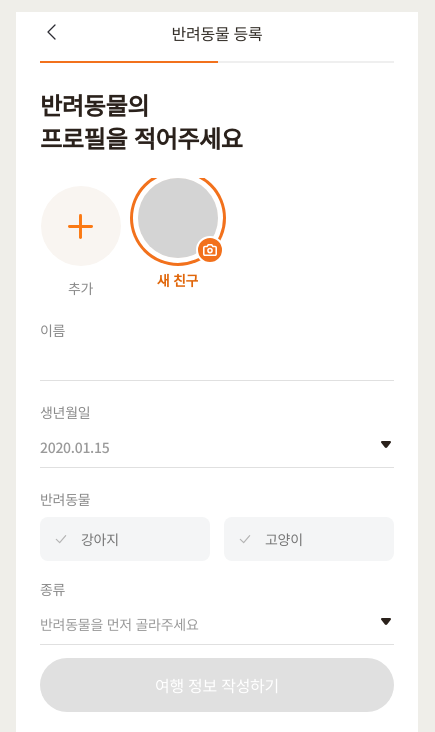
Test case: M02 반려동물 등록 › 없는 날짜는 생년월일로 받지 않는다
Type "20230230" into the field labelled "생년월일" at (202, 445), box [40,425,364,465]
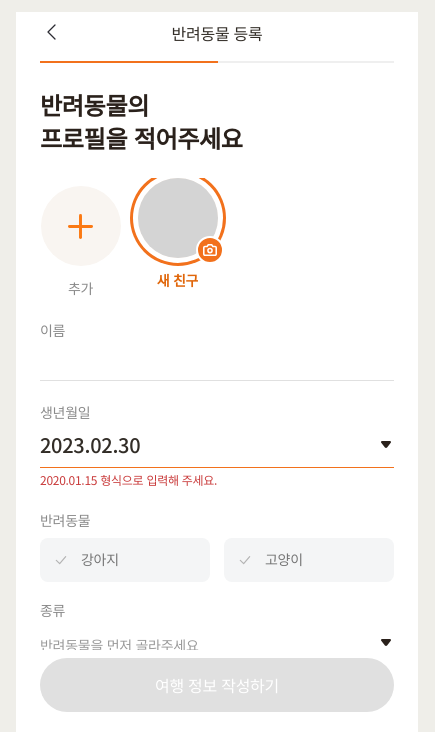
Expected: the button "여행 정보 작성하기" is disabled, [40,658,394,712]
Expected: the text "2020.01.15 형식으로 입력해 주세요." is shown, [40,471,217,488]
